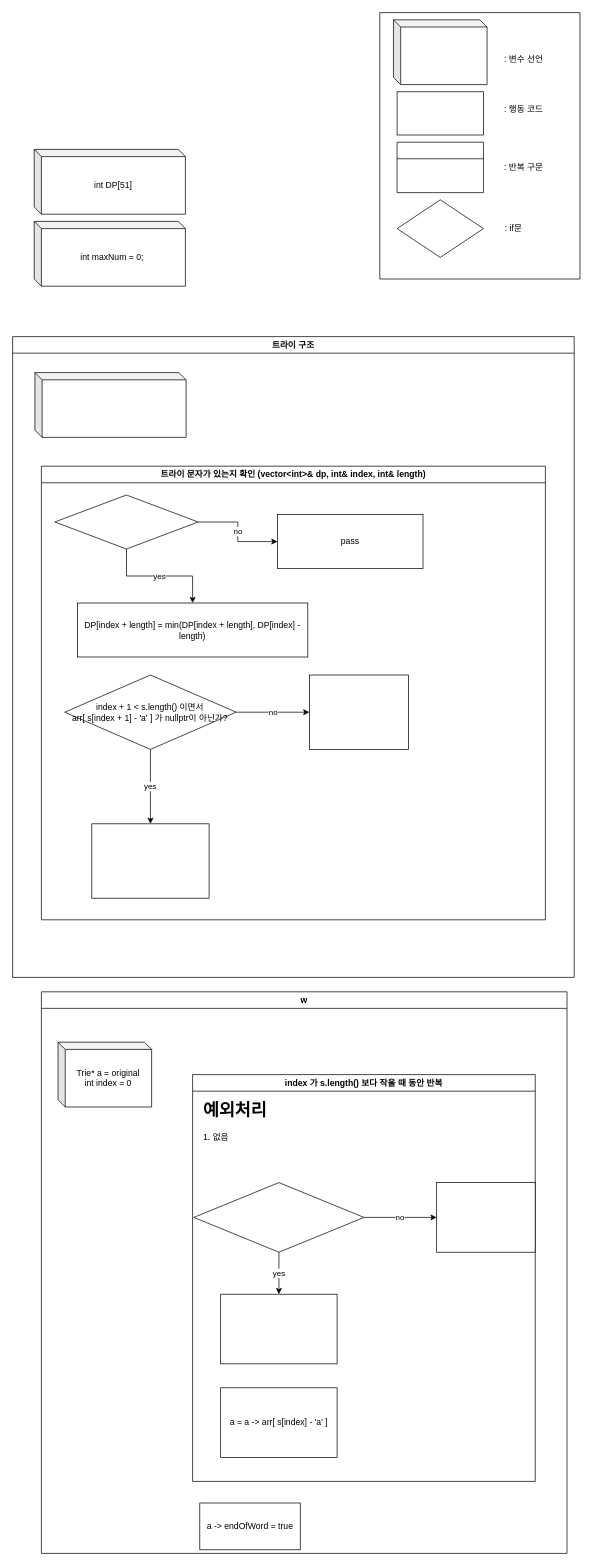
Image size: 593x1566. Some labels were removed from this diagram. Each missing label, with the centre of its shape:
"a -> arr[ s[index] - 'a'] = new Trie(s[index])" goes at point (278, 1328).
"a -> arr[ s[index] -'a'] 가 nullptr?" goes at point (278, 1217).
"arr[ s[index + 1] - 'a' ] -> 재귀" goes at point (150, 860).
"bool endOfWord Trie* arr[26]" goes at point (110, 404).
"endOfWord인가?" goes at point (126, 521).
"~ 동안" goes at point (439, 167).
